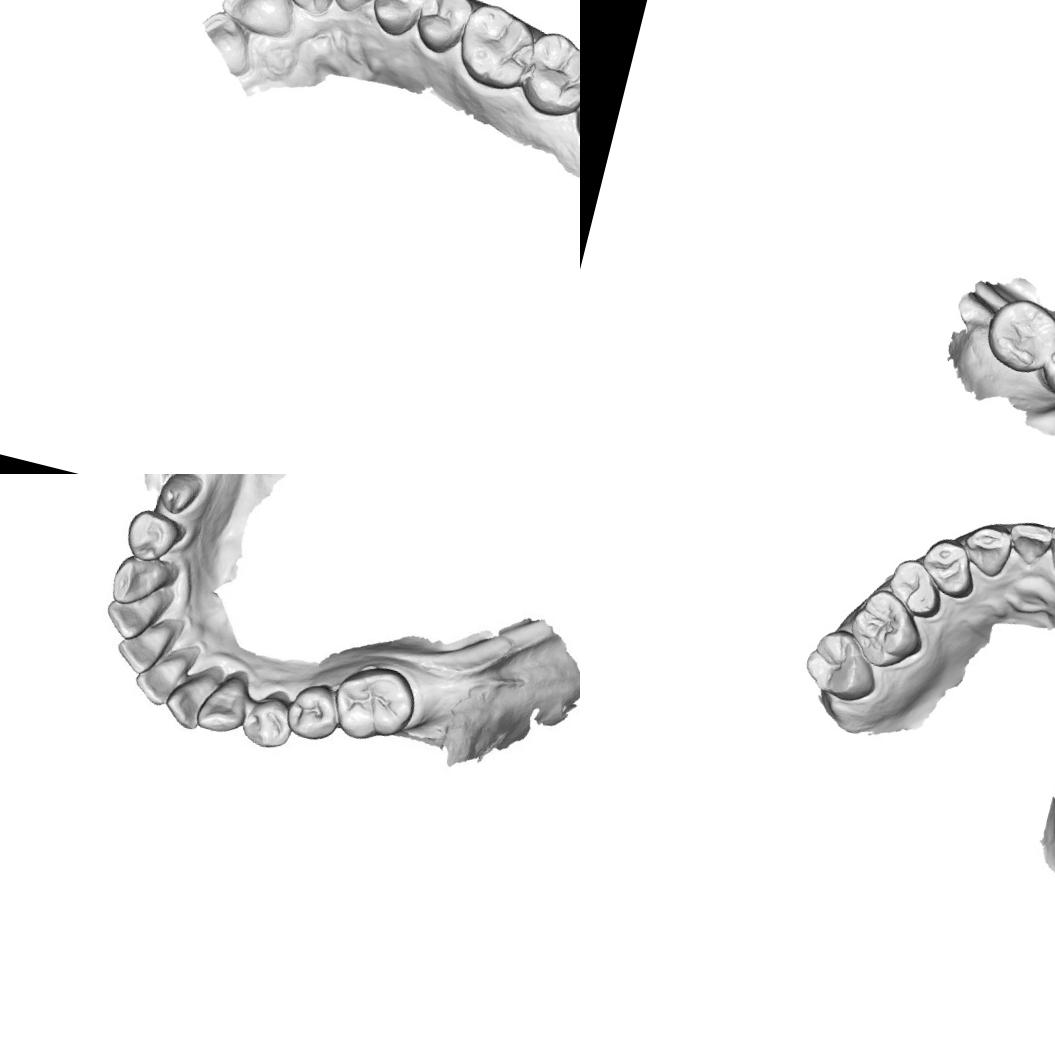canine: (190, 664, 250, 744), (109, 550, 178, 608), (958, 517, 1016, 581), (319, 0, 383, 16)
incisor: (98, 579, 170, 648), (110, 614, 179, 682), (158, 666, 220, 737), (129, 640, 189, 712), (213, 0, 304, 46), (1002, 516, 1055, 570), (268, 0, 342, 21), (1040, 516, 1055, 581)
molar: (327, 657, 423, 753), (449, 0, 542, 94), (841, 583, 931, 676), (798, 622, 886, 706), (978, 291, 1055, 379), (516, 29, 580, 126), (1034, 323, 1055, 411)
premolar: (118, 503, 194, 568), (914, 532, 984, 602), (882, 554, 949, 621), (284, 676, 346, 746), (240, 686, 303, 754), (411, 0, 475, 57), (364, 0, 431, 42)
